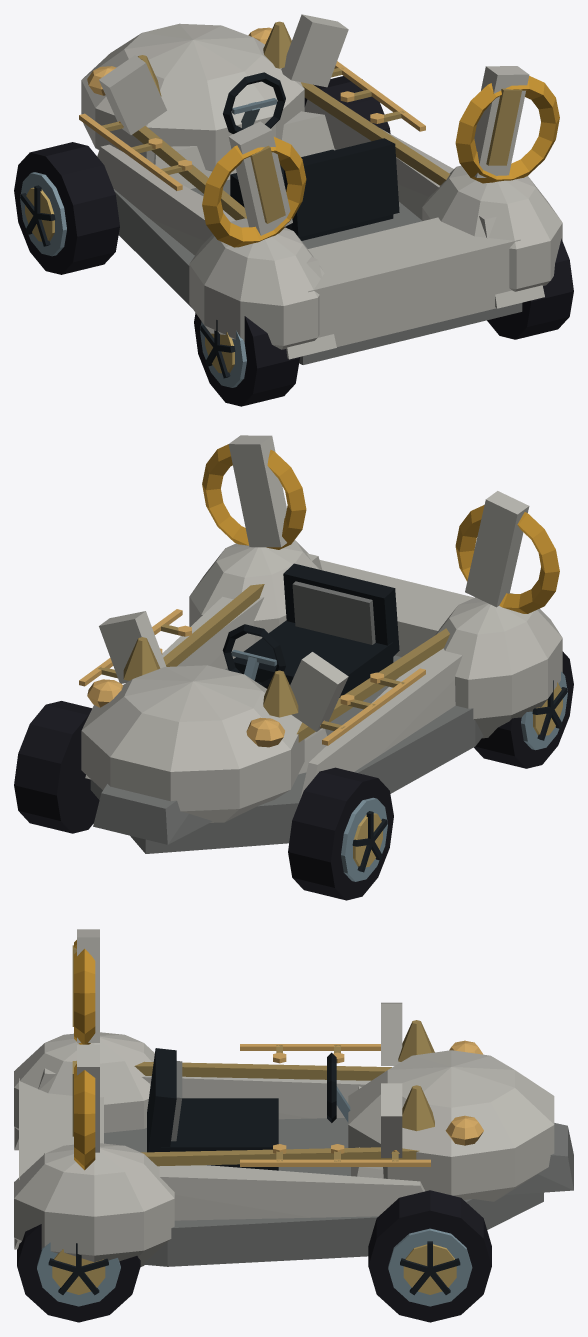
The model's file is kart.glb.
The picture shows the model from 3 angles, top to bottom: view 1: azimuth 30°, elevation 25°; view 2: azimuth 150°, elevation 25°; view 3: azimuth 270°, elevation 25°; orthographic projection. The views are drawn at different scales.
Parts seen in each view (by area): view 1: identity-beast-beast-sculpted-prow-and-haunches, wheel-front-left, identity-beast-driver-cockpit, identity-beast-motif-ring, identity-beast-motif-ears, wheel-rear-left, identity-beast-motif-circuit, wheel-rear-right, wheel-front-right; view 2: identity-beast-beast-sculpted-prow-and-haunches, identity-beast-driver-cockpit, wheel-front-left, identity-beast-motif-ears, wheel-front-right, identity-beast-motif-ring, wheel-rear-left, identity-beast-motif-circuit; view 3: identity-beast-beast-sculpted-prow-and-haunches, wheel-front-right, identity-beast-driver-cockpit, wheel-rear-right, identity-beast-motif-ring, identity-beast-motif-circuit, identity-beast-motif-ears.
Boxes of the visible parts, bbox=[...] form: identity-beast-beast-sculpted-prow-and-haunches: bbox=[81, 14, 562, 364]; wheel-front-left: bbox=[14, 142, 119, 274]; identity-beast-driver-cockpit: bbox=[223, 72, 399, 240]; identity-beast-motif-ring: bbox=[202, 76, 559, 247]; identity-beast-motif-ears: bbox=[228, 66, 529, 235]; wheel-rear-left: bbox=[194, 313, 299, 406]; identity-beast-motif-circuit: bbox=[79, 61, 425, 190]; wheel-rear-right: bbox=[487, 238, 573, 339]; wheel-front-right: bbox=[304, 76, 390, 133]; identity-beast-beast-sculpted-prow-and-haunches: bbox=[81, 540, 562, 853]; identity-beast-driver-cockpit: bbox=[222, 563, 399, 697]; wheel-front-left: bbox=[288, 767, 393, 900]; identity-beast-motif-ears: bbox=[228, 435, 529, 607]; wheel-front-right: bbox=[14, 701, 99, 833]; identity-beast-motif-ring: bbox=[202, 444, 559, 613]; wheel-rear-left: bbox=[474, 651, 573, 768]; identity-beast-motif-circuit: bbox=[79, 609, 425, 745]; identity-beast-beast-sculpted-prow-and-haunches: bbox=[14, 1002, 573, 1267]; wheel-front-right: bbox=[368, 1190, 491, 1322]; identity-beast-driver-cockpit: bbox=[147, 1048, 350, 1170]; wheel-rear-right: bbox=[17, 1224, 140, 1322]; identity-beast-motif-ring: bbox=[74, 940, 95, 1170]; identity-beast-motif-circuit: bbox=[240, 1044, 430, 1166]; identity-beast-motif-ears: bbox=[72, 929, 99, 1152].
Size of the model in its own units: 2.09 by 1.46 by 2.9.
